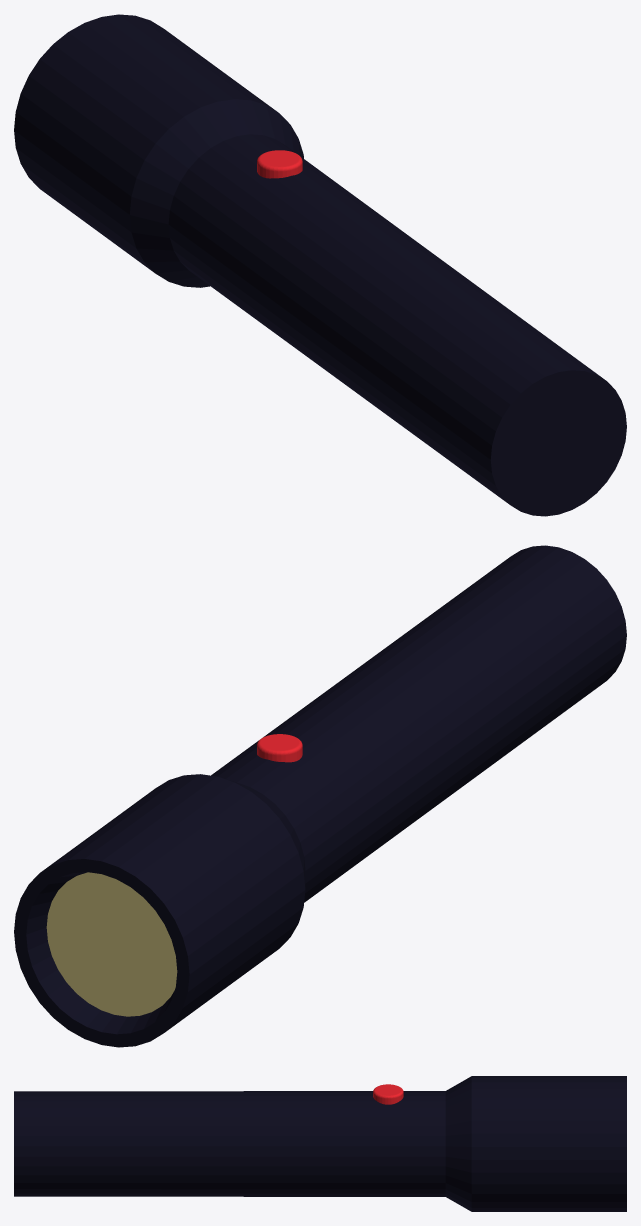
The model's file is Flashlight.fbx.
The picture shows the model from 3 angles, top to bottom: view 1: azimuth 30°, elevation 25°; view 2: azimuth 150°, elevation 25°; view 3: azimuth 270°, elevation 25°; orthographic projection. The views are drawn at different scales.
Parts seen in each view (by area): view 1: Cylinder, Cylinder.001; view 2: Cylinder, Cylinder.001; view 3: Cylinder, Cylinder.001.
Boxes of the visible parts, x1,y1,x2,y2 form: Cylinder: (14,14,626,516); Cylinder.001: (257,150,302,178); Cylinder: (14,545,626,1047); Cylinder.001: (257,734,302,762); Cylinder: (14,1076,626,1211); Cylinder.001: (373,1084,403,1104).
Size of the model in its own units: 2.25 by 2.25 by 10.16.
